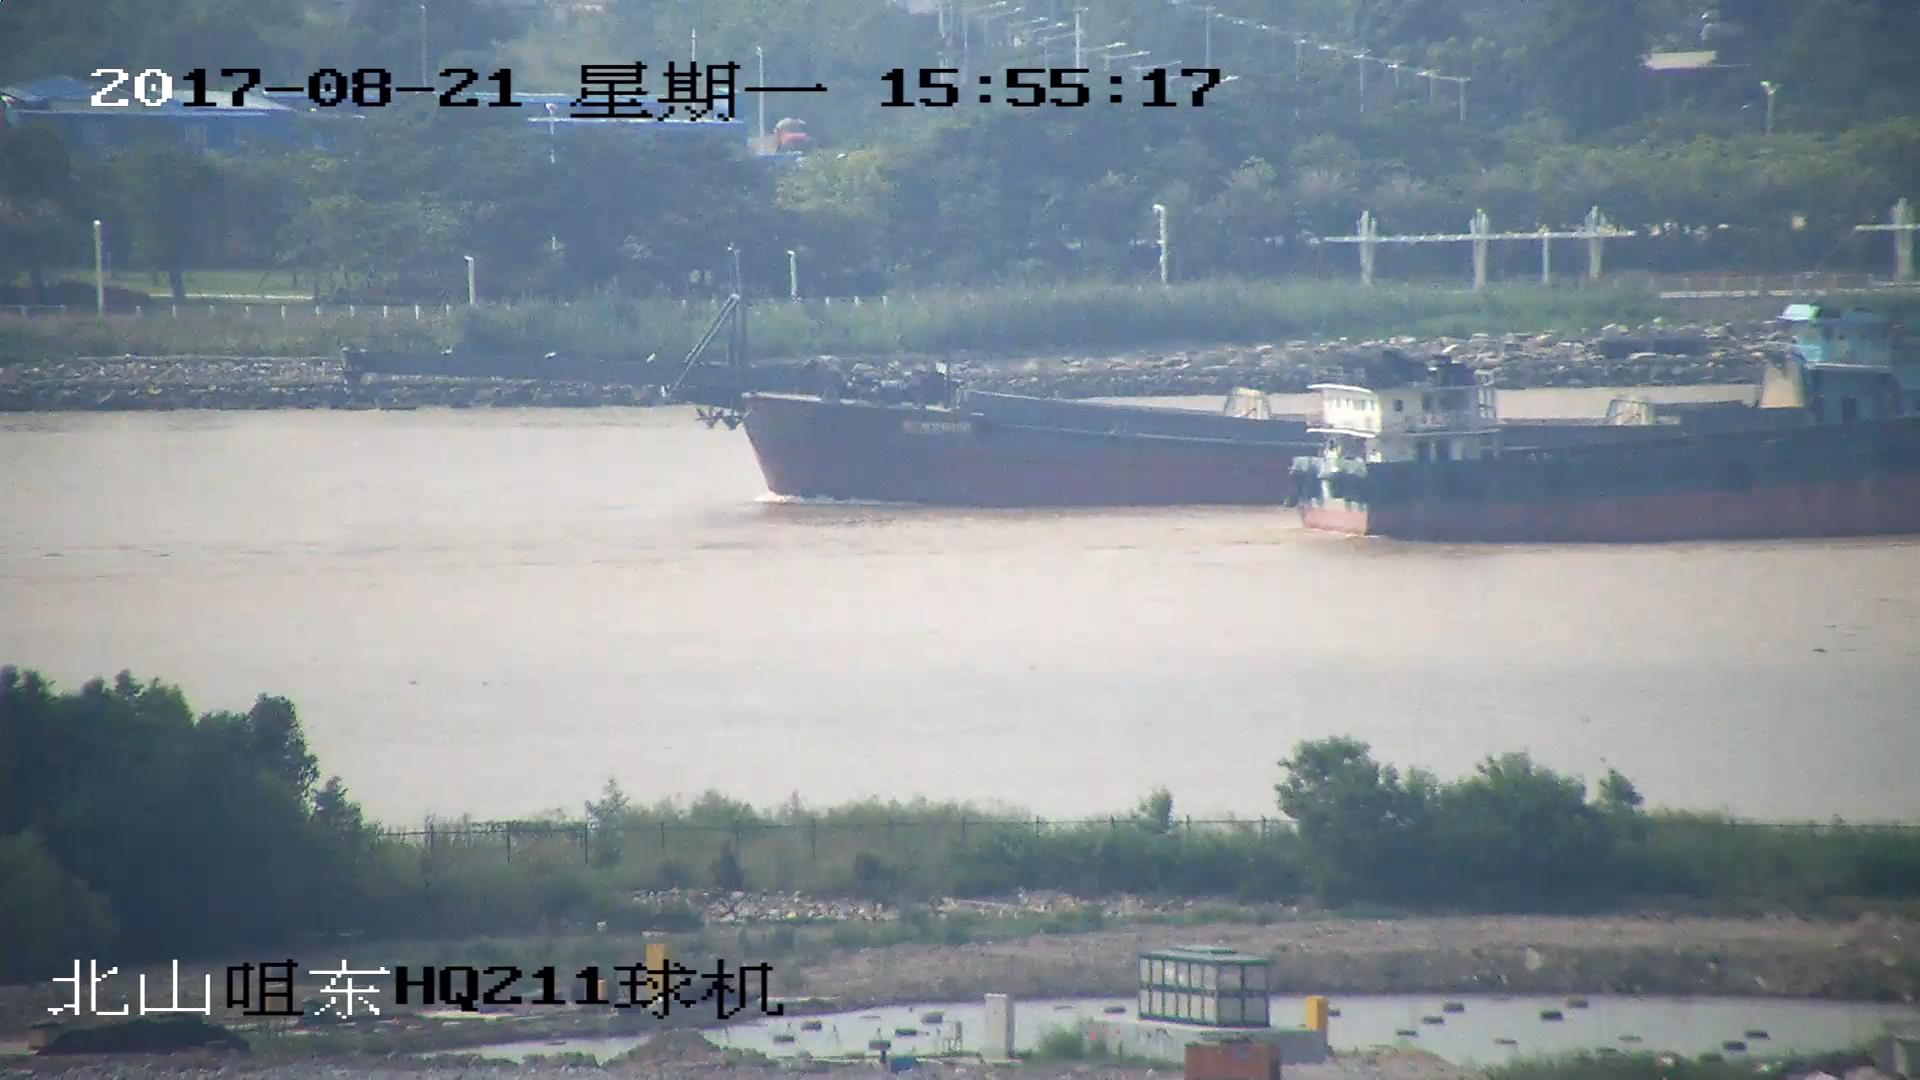bulk cargo carrier: (336, 269, 1920, 503)
general cargo ship: (1293, 365, 1920, 547)
